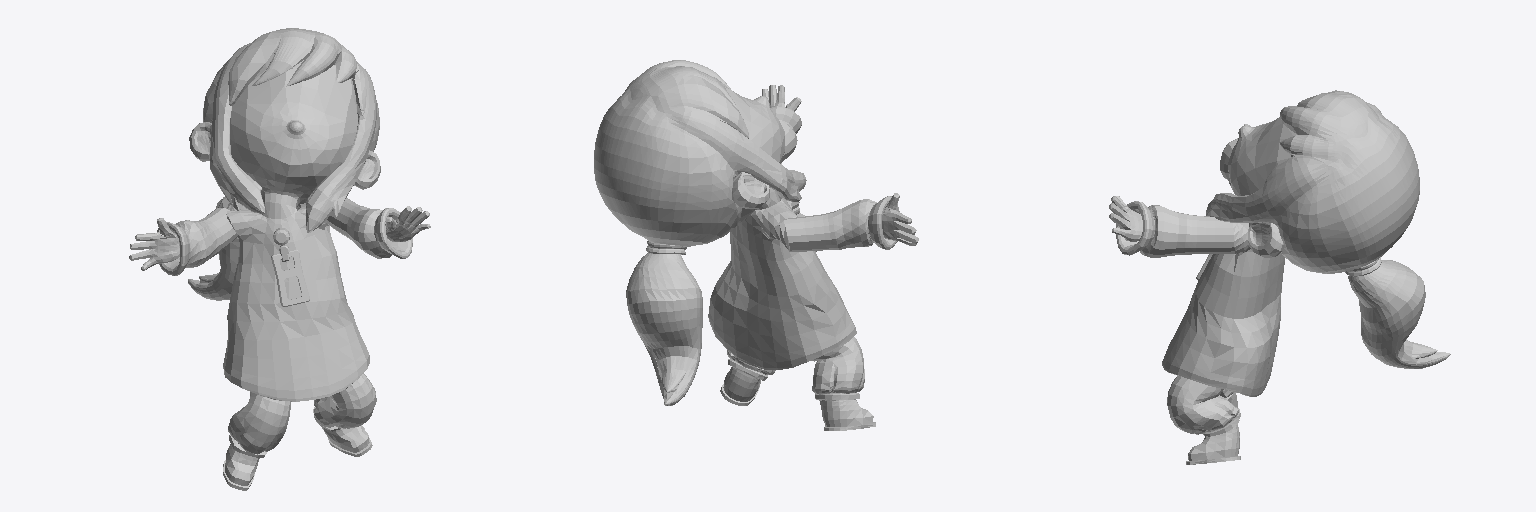
3 views of the same model, side by side, from view 1: azimuth 30°, elevation 25°; view 2: azimuth 150°, elevation 25°; view 3: azimuth 270°, elevation 25° (orthographic).
Parts seen in each view (by area): view 1: hatkidbody.png, hatkidhair.png, hatkidbody, hatkidhair; view 2: hatkidbody.png, hatkidhair.png, hatkidhair, hatkidbody; view 3: hatkidbody.png, hatkidhair.png, hatkidhair, hatkidbody.
Boxes of the visible parts, x1=… form: hatkidbody.png: x1=129, y1=60, x2=430, y2=401; hatkidhair.png: x1=203, y1=28, x2=379, y2=232; hatkidbody: x1=223, y1=373, x2=376, y2=490; hatkidhair: x1=188, y1=197, x2=247, y2=300; hatkidbody.png: x1=708, y1=85, x2=918, y2=369; hatkidhair.png: x1=594, y1=60, x2=806, y2=246; hatkidhair: x1=626, y1=240, x2=702, y2=405; hatkidbody: x1=720, y1=337, x2=875, y2=430; hatkidbody.png: x1=1109, y1=117, x2=1296, y2=396; hatkidhair.png: x1=1206, y1=90, x2=1419, y2=273; hatkidhair: x1=1345, y1=257, x2=1450, y2=368; hatkidbody: x1=1167, y1=376, x2=1240, y2=464.
Bounding box in the file's own units: 50.72 × 66.09 × 54.29.